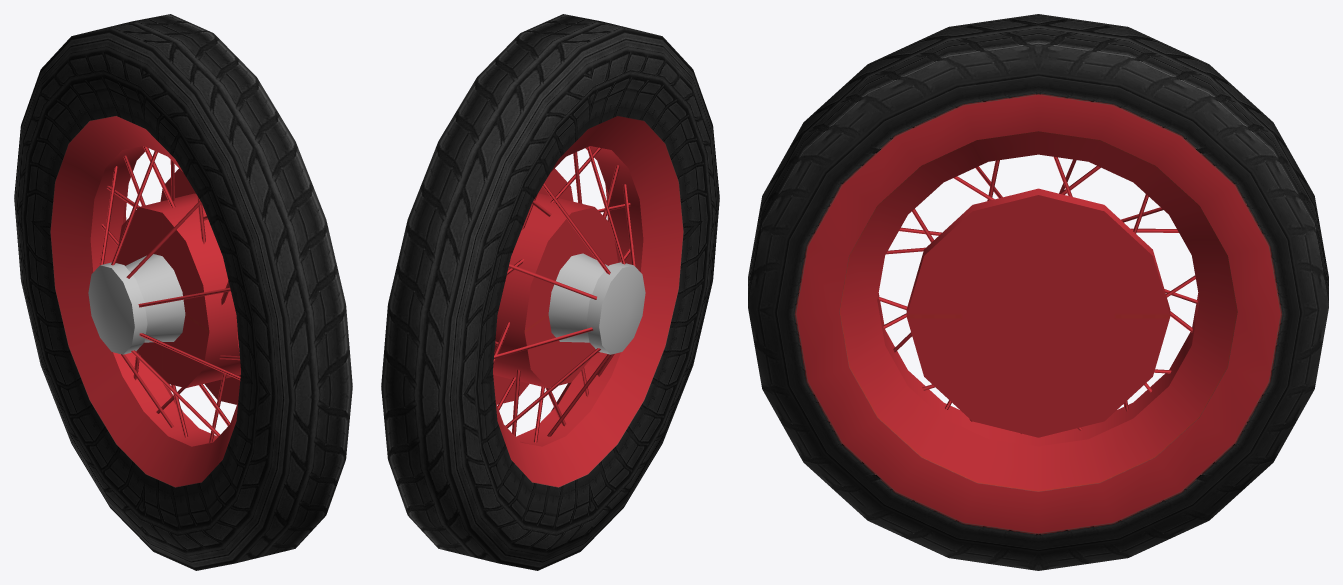
File: Wheel3.fbx
The picture shows the model from 3 angles, left to right: view 1: azimuth 30°, elevation 25°; view 2: azimuth 150°, elevation 25°; view 3: azimuth 270°, elevation 25°; orthographic projection. The views are drawn at different scales.
Parts seen in each view (by area): view 1: Tire, Metal; view 2: Tire, Metal; view 3: Tire, Metal.
Part boxes in pixels (x1,y1,x2,y2): Tire: (14,14,352,570); Metal: (50,116,240,487); Tire: (381,14,719,570); Metal: (493,116,683,487); Tire: (748,14,1328,570); Metal: (839,131,1237,491).
Bounding box in the file's own units: 19.22 × 73.4 × 73.46.
